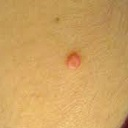Wart: (64, 48, 83, 74)
